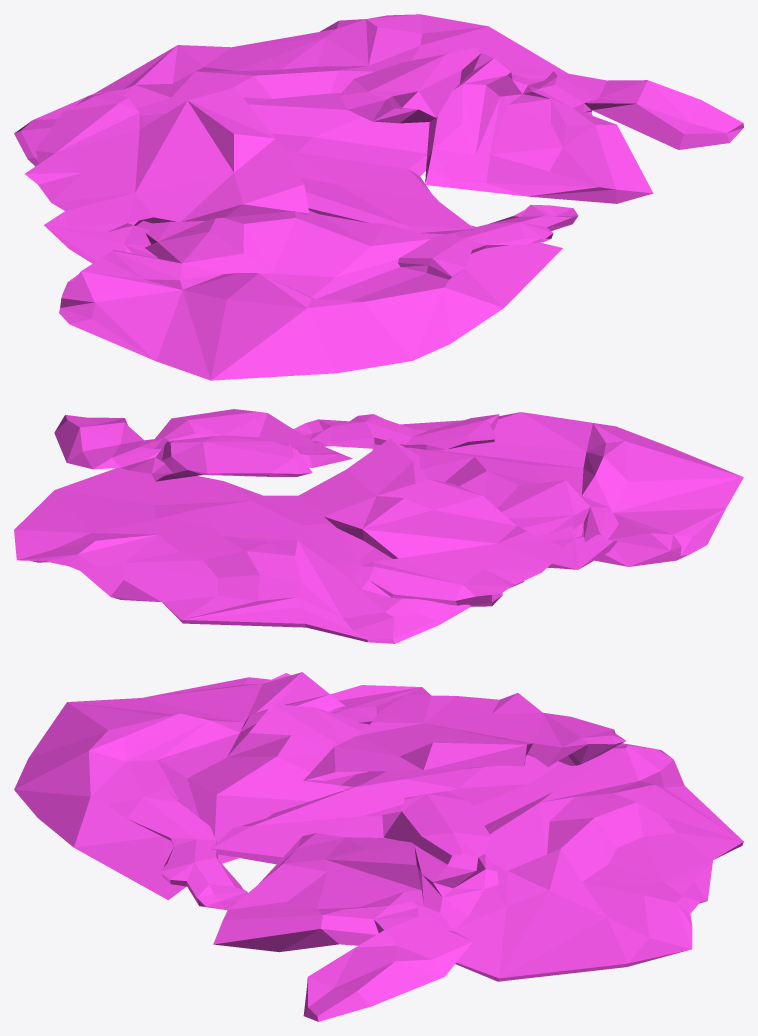
The model's file is SM_Clothes_Pile_A_Fantasy.fbx.
3 renders of one model, top to bottom at view 1: azimuth 30°, elevation 25°; view 2: azimuth 150°, elevation 25°; view 3: azimuth 270°, elevation 25°, orthographic. The views are drawn at different scales.
Parts seen in each view (by area): view 1: SM_Clothes_Pile_A_Fantasy; view 2: SM_Clothes_Pile_A_Fantasy; view 3: SM_Clothes_Pile_A_Fantasy.
Part boxes in pixels (x1,y1,x2,y2): SM_Clothes_Pile_A_Fantasy: [14, 14, 743, 380]; SM_Clothes_Pile_A_Fantasy: [14, 409, 743, 643]; SM_Clothes_Pile_A_Fantasy: [14, 672, 743, 1021].
Size of the model in its own units: 1.66 by 0.193 by 1.5.
